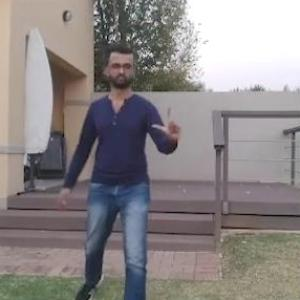land_hand: (150, 95, 188, 147)
